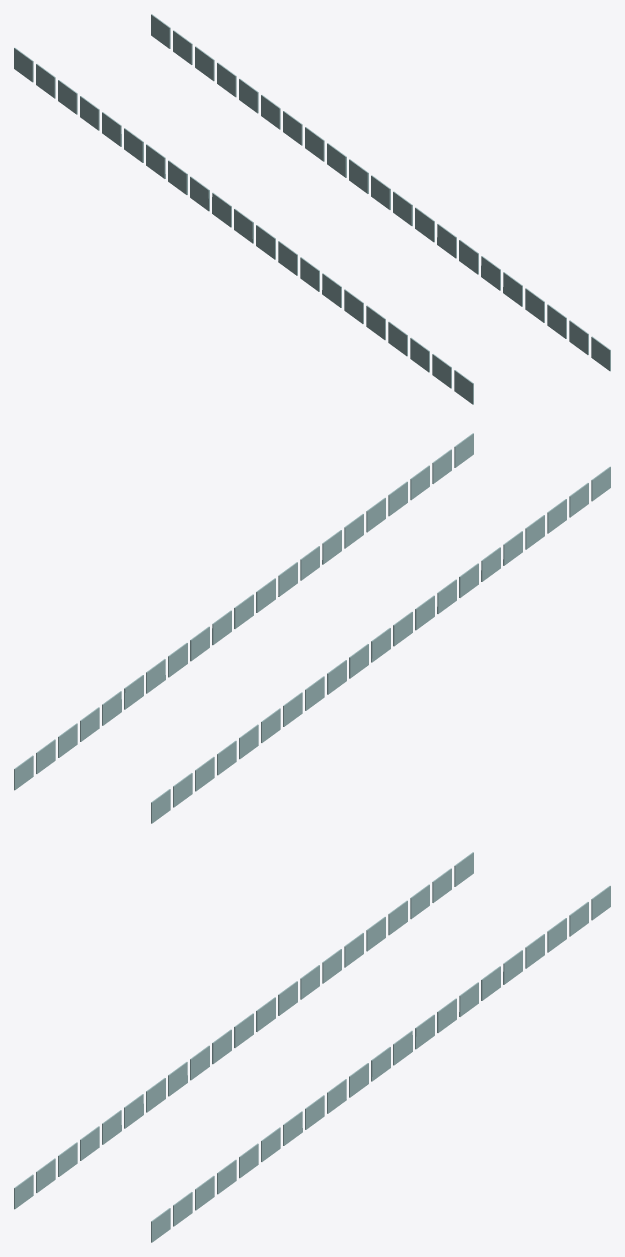
The model's file is Windows.fbx.
The picture shows the model from 3 angles, top to bottom: view 1: azimuth 30°, elevation 25°; view 2: azimuth 150°, elevation 25°; view 3: azimuth 330°, elevation 25°; orthographic projection.
Visible parts, largest first — view 1: polySurface2977; view 2: polySurface2977; view 3: polySurface2977.
Boxes of the visible parts, bbox=[...] form: polySurface2977: bbox=[14, 14, 610, 404]; polySurface2977: bbox=[14, 433, 610, 823]; polySurface2977: bbox=[14, 852, 610, 1242].
Bounding box in the file's own units: 8.93 × 1.3 × 51.41.
